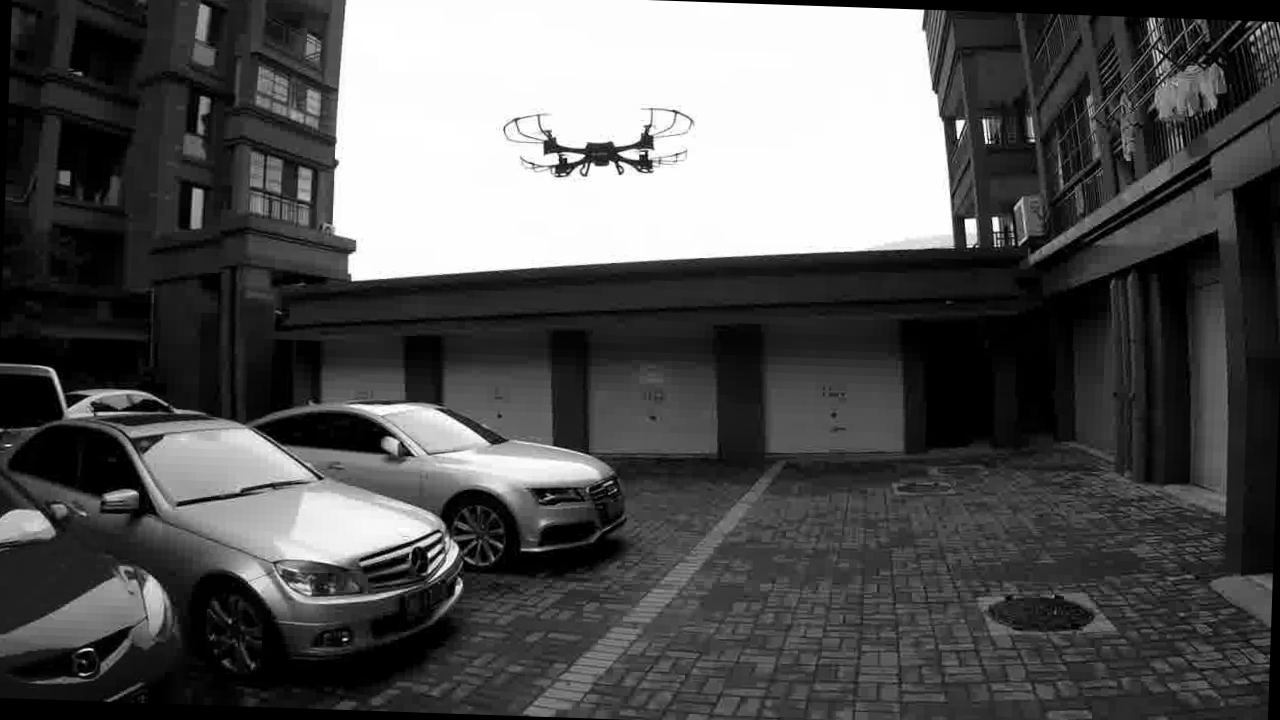drone: (493, 90, 720, 192)
